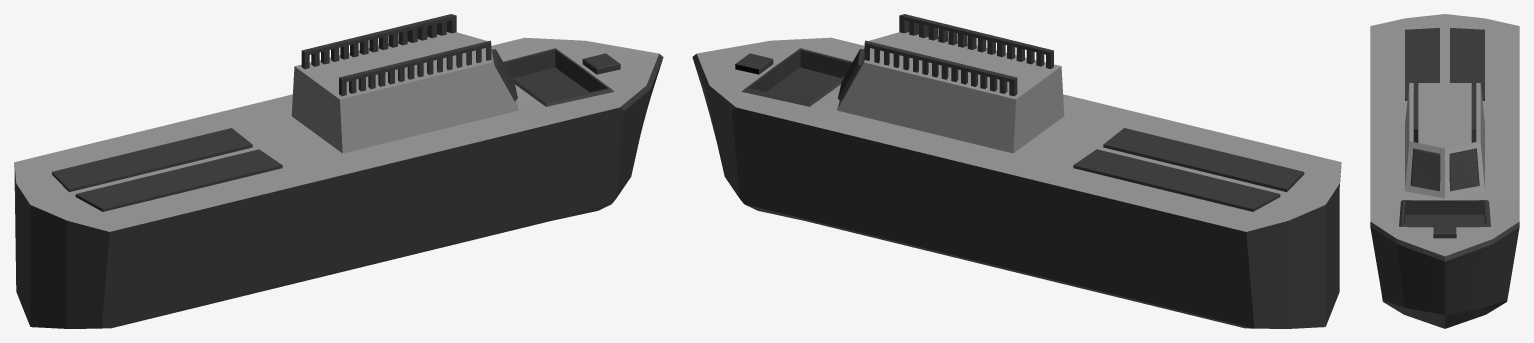
File: missileBoat.fbx
3 renders of one model, left to right at view 1: azimuth 30°, elevation 25°; view 2: azimuth 150°, elevation 25°; view 3: azimuth 270°, elevation 25°, orthographic. The views are drawn at different scales.
Parts seen in each view (by area): view 1: Cube; view 2: Cube; view 3: Cube.
Part boxes in pixels (left/top/right/bottom): Cube: left=14, top=14, right=663, bottom=328; Cube: left=692, top=14, right=1341, bottom=328; Cube: left=1370, top=14, right=1519, bottom=328.
Size of the model in its own units: 1292 by 395 by 337.
